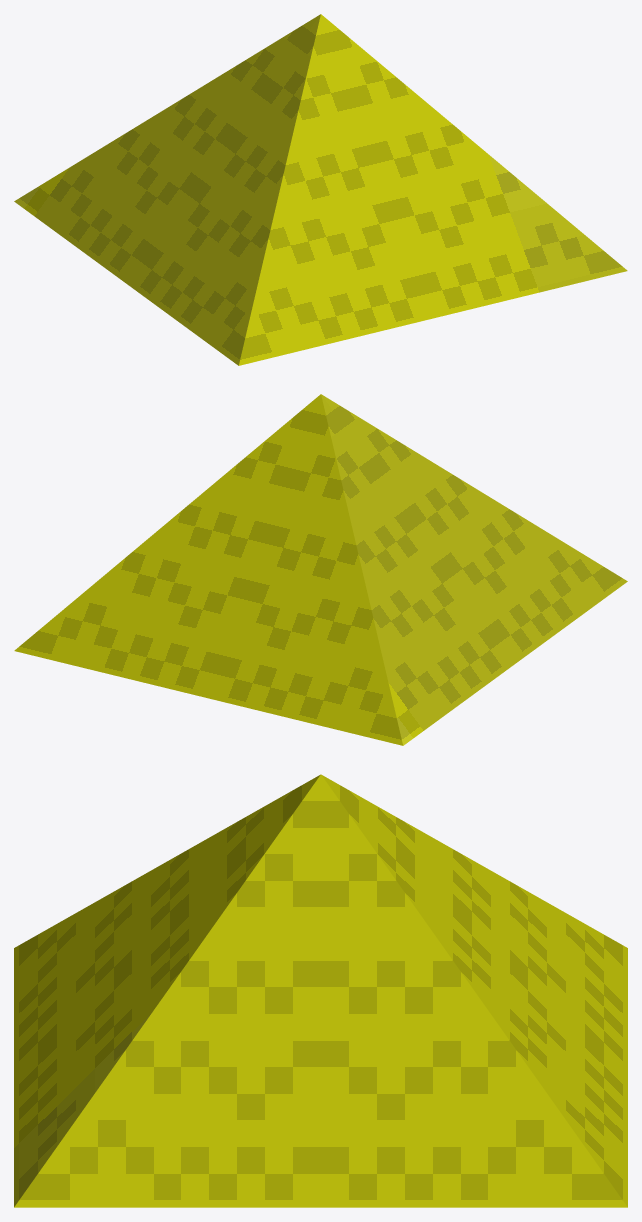
The model's file is casa.gltf.
3 views of the same model, one above another, from view 1: azimuth 30°, elevation 25°; view 2: azimuth 150°, elevation 25°; view 3: azimuth 270°, elevation 25° (orthographic). The views are drawn at different scales.
Parts seen in each view (by area): view 1: pyramid; view 2: pyramid; view 3: pyramid.
Boxes of the visible parts, bbox=[...] form: pyramid: bbox=[14, 14, 627, 365]; pyramid: bbox=[14, 394, 627, 745]; pyramid: bbox=[14, 774, 627, 1207].
Size of the model in its own units: 1.38 by 0.75 by 1.38.
1 material, 1 textured.
